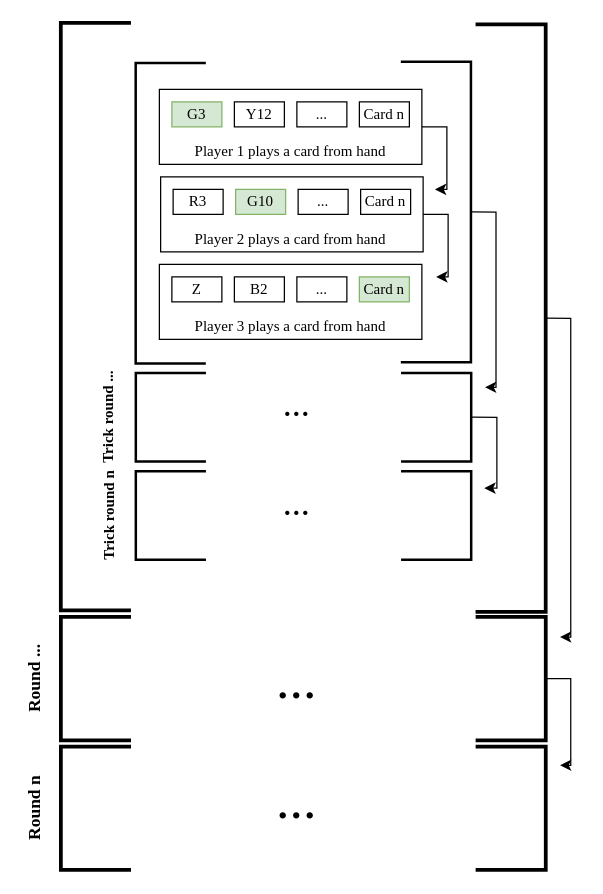
This 603x894 diagram has some shape labels left out. The shapes that lost their labels are listed below. From the top down, each one's centre as x and y in pixels, then its label:
At pixel 170 212: "Trick round 1".
At pixel 95 316: "Round 1".
